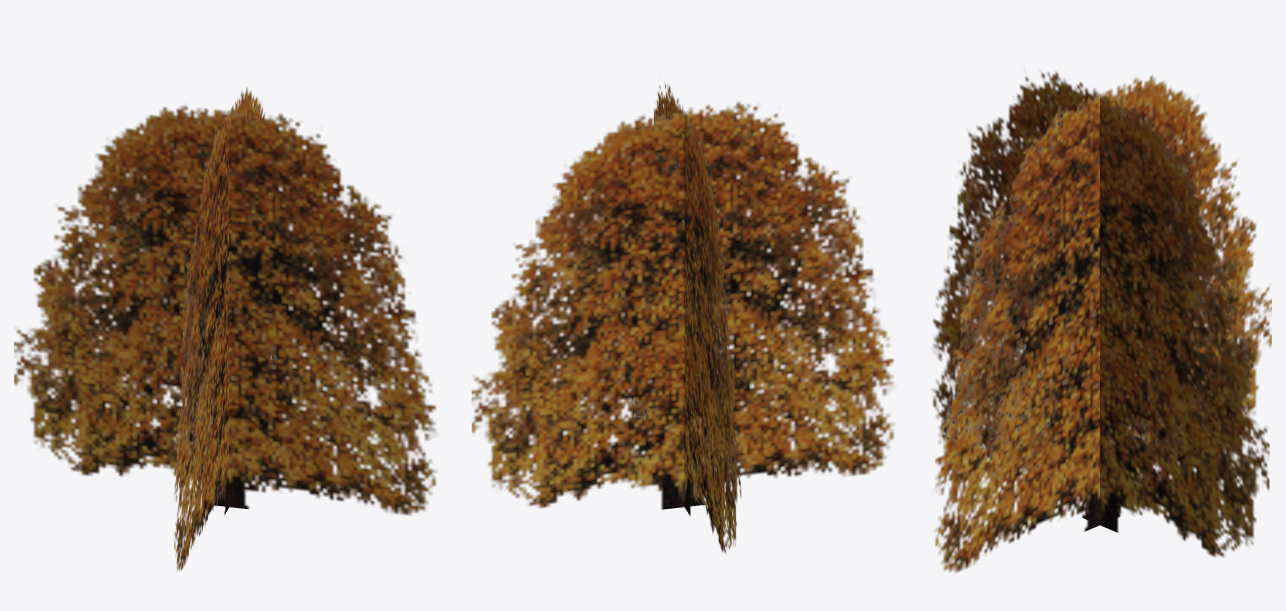
The model's file is tree019.glb.
The picture shows the model from 3 angles, left to right: view 1: azimuth 30°, elevation 25°; view 2: azimuth 150°, elevation 25°; view 3: azimuth 270°, elevation 25°; orthographic projection. The views are drawn at different scales.
Parts seen in each view (by area): view 1: tree019; view 2: tree019; view 3: tree019.
Part boxes in pixels (left/top/right/bottom): tree019: left=14, top=87, right=436, bottom=570; tree019: left=471, top=84, right=894, bottom=553; tree019: left=932, top=71, right=1271, bottom=572.
Size of the model in its own units: 2.14 by 3.1 by 2.14.
1 material, 1 textured.
